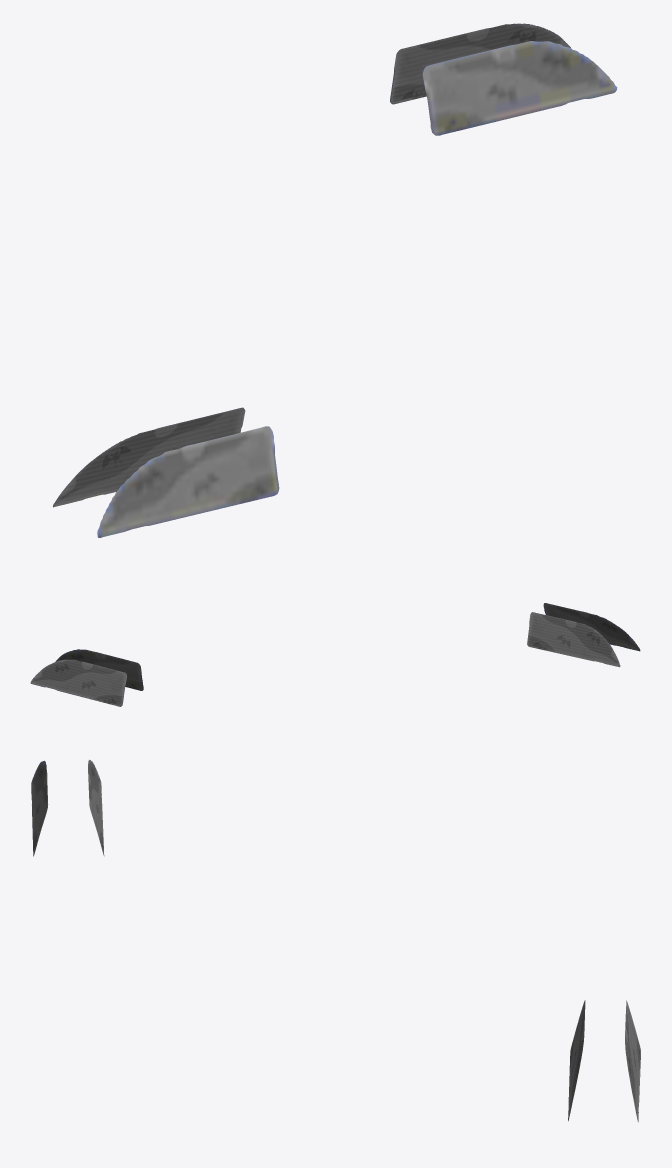
File: pref_sm_4v4beachtech_bk_WSJ_topblock_t01a_lv0.fbx
The picture shows the model from 3 angles, top to bottom: view 1: azimuth 30°, elevation 25°; view 2: azimuth 150°, elevation 25°; view 3: azimuth 270°, elevation 25°; orthographic projection. The views are drawn at different scales.
Parts seen in each view (by area): view 1: pref_sm_4v4beachtech_bk_WSJ_topblock_t01a_lv0; view 2: pref_sm_4v4beachtech_bk_WSJ_topblock_t01a_lv0; view 3: pref_sm_4v4beachtech_bk_WSJ_topblock_t01a_lv0.
Boxes of the visible parts, bbox=[...] form: pref_sm_4v4beachtech_bk_WSJ_topblock_t01a_lv0: bbox=[53, 23, 617, 537]; pref_sm_4v4beachtech_bk_WSJ_topblock_t01a_lv0: bbox=[30, 603, 640, 706]; pref_sm_4v4beachtech_bk_WSJ_topblock_t01a_lv0: bbox=[31, 759, 640, 1122].
Size of the model in its own units: 15.67 by 1.54 by 11.62.
Materials: 2 (2 with a texture image).
